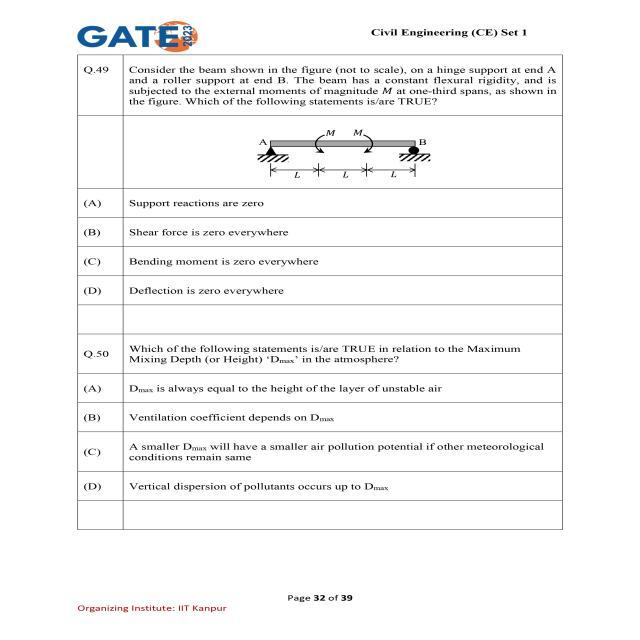Answer_Block: (55, 378, 588, 546), (56, 187, 584, 309)
Question_Answer_Block: (56, 54, 584, 309), (55, 336, 588, 546)
Question_Block: (56, 54, 584, 189), (55, 337, 588, 375)
Question_Paper_Area: (55, 52, 588, 546)
